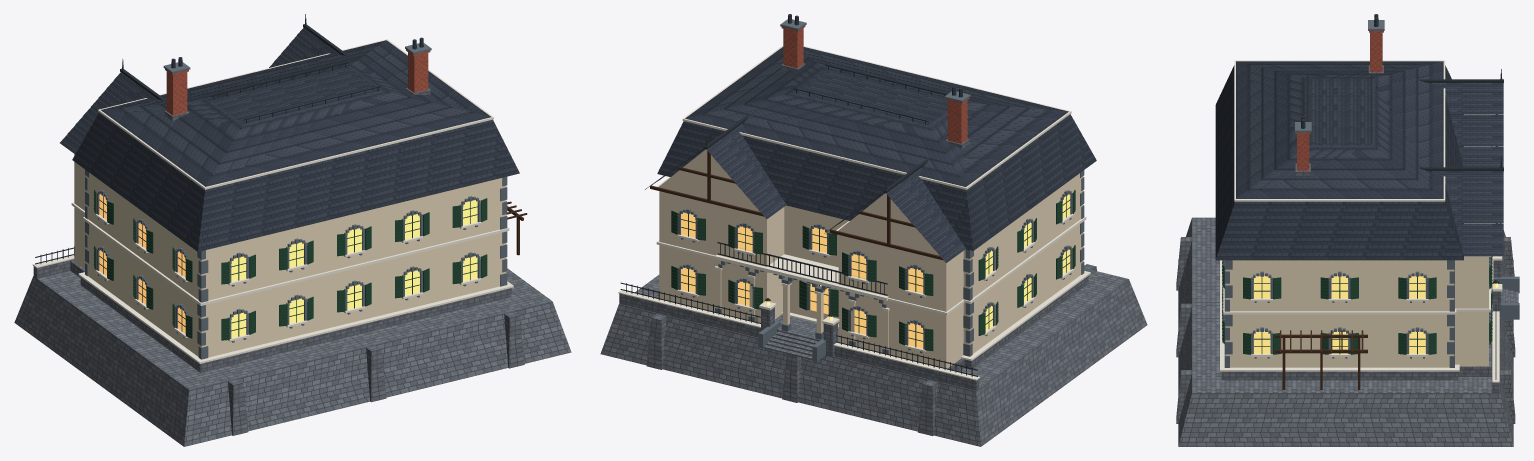
Rendered from fv_pdp_10_phan_dinh_phung_60_grand_mansard_manor.glb.
The picture shows the model from 3 angles, left to right: view 1: azimuth 30°, elevation 25°; view 2: azimuth 150°, elevation 25°; view 3: azimuth 270°, elevation 25°; orthographic projection.
Parts seen in each view (by area): view 1: Normandy_Brittany_Layered_Roof, Foundation_Skirt_Neg3p5m, Villa_Stucco_Walls, Molded_Cornices_And_Sills, PineGreen_Louvered_Shutters, Stone_Quoins_And_Arches, Warm_Night_Windows_20h00_Blend, Brick_Chimney_Stacks, Wrought_Iron_Balustrades_And_Gate, Roof_Ridges_Caps_And_Finials; view 2: Normandy_Brittany_Layered_Roof, Foundation_Skirt_Neg3p5m, Villa_Stucco_Walls, Molded_Cornices_And_Sills, Stone_Quoins_And_Arches, PineGreen_Louvered_Shutters, Warm_Night_Windows_20h00_Blend, Wrought_Iron_Balustrades_And_Gate, Exposed_Timber_Trusses_And_Rafters, Brick_Chimney_Stacks, Roof_Ridges_Caps_And_Finials; view 3: Normandy_Brittany_Layered_Roof, Foundation_Skirt_Neg3p5m, Villa_Stucco_Walls, Molded_Cornices_And_Sills, Stone_Quoins_And_Arches, PineGreen_Louvered_Shutters, Warm_Night_Windows_20h00_Blend, Exposed_Timber_Trusses_And_Rafters, Brick_Chimney_Stacks, Roof_Ridges_Caps_And_Finials, Wrought_Iron_Balustrades_And_Gate.
Boxes of the visible parts, left/top/right/bottom form: Normandy_Brittany_Layered_Roof: left=60, top=27, right=519, bottom=251; Foundation_Skirt_Neg3p5m: left=14, top=87, right=571, bottom=446; Villa_Stucco_Walls: left=74, top=154, right=506, bottom=357; Molded_Cornices_And_Sills: left=32, top=39, right=513, bottom=363; PineGreen_Louvered_Shutters: left=93, top=189, right=487, bottom=340; Stone_Quoins_And_Arches: left=85, top=43, right=507, bottom=359; Warm_Night_Windows_20h00_Blend: left=99, top=194, right=477, bottom=338; Brick_Chimney_Stacks: left=165, top=49, right=430, bottom=115; Wrought_Iron_Balustrades_And_Gate: left=35, top=62, right=380, bottom=264; Roof_Ridges_Caps_And_Finials: left=120, top=14, right=348, bottom=100; Normandy_Brittany_Layered_Roof: left=646, top=14, right=1096, bottom=262; Foundation_Skirt_Neg3p5m: left=600, top=63, right=1147, bottom=446; Villa_Stucco_Walls: left=658, top=149, right=1083, bottom=368; Molded_Cornices_And_Sills: left=618, top=45, right=1090, bottom=380; Stone_Quoins_And_Arches: left=678, top=19, right=1084, bottom=361; PineGreen_Louvered_Shutters: left=671, top=190, right=1075, bottom=351; Warm_Night_Windows_20h00_Blend: left=681, top=194, right=1070, bottom=348; Wrought_Iron_Balustrades_And_Gate: left=620, top=65, right=977, bottom=376; Exposed_Timber_Trusses_And_Rafters: left=650, top=151, right=943, bottom=260; Brick_Chimney_Stacks: left=781, top=26, right=969, bottom=143; Roof_Ridges_Caps_And_Finials: left=645, top=115, right=928, bottom=233; Normandy_Brittany_Layered_Roof: left=1215, top=14, right=1503, bottom=260; Foundation_Skirt_Neg3p5m: left=1176, top=65, right=1518, bottom=446; Villa_Stucco_Walls: left=1225, top=114, right=1488, bottom=367; Molded_Cornices_And_Sills: left=1220, top=60, right=1502, bottom=382; Stone_Quoins_And_Arches: left=1223, top=20, right=1519, bottom=367; PineGreen_Louvered_Shutters: left=1222, top=256, right=1492, bottom=354; Warm_Night_Windows_20h00_Blend: left=1254, top=256, right=1498, bottom=353; Exposed_Timber_Trusses_And_Rafters: left=1275, top=114, right=1497, bottom=389; Brick_Chimney_Stacks: left=1295, top=31, right=1383, bottom=170; Roof_Ridges_Caps_And_Finials: left=1419, top=69, right=1503, bottom=171; Wrought_Iron_Balustrades_And_Gate: left=1307, top=75, right=1498, bottom=379.
Size of the model in its own units: 29.52 by 20.9 by 22.53.
Materials: 12 (3 with a texture image).
